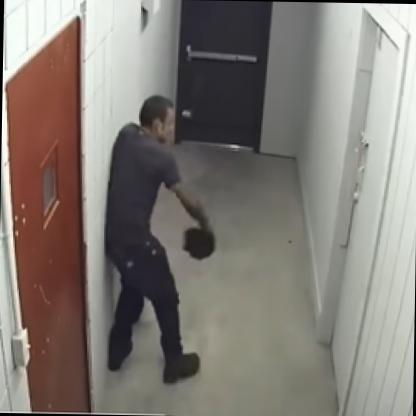Human Body: (92, 90, 222, 388)
